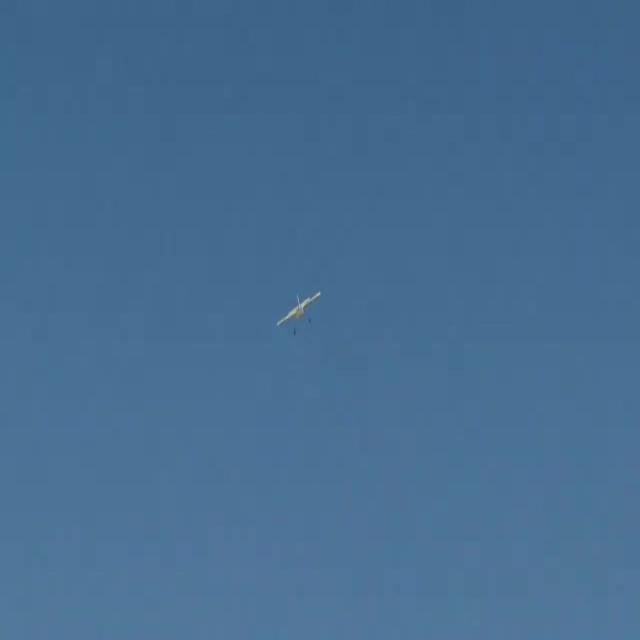iha: (276, 291, 321, 336)
